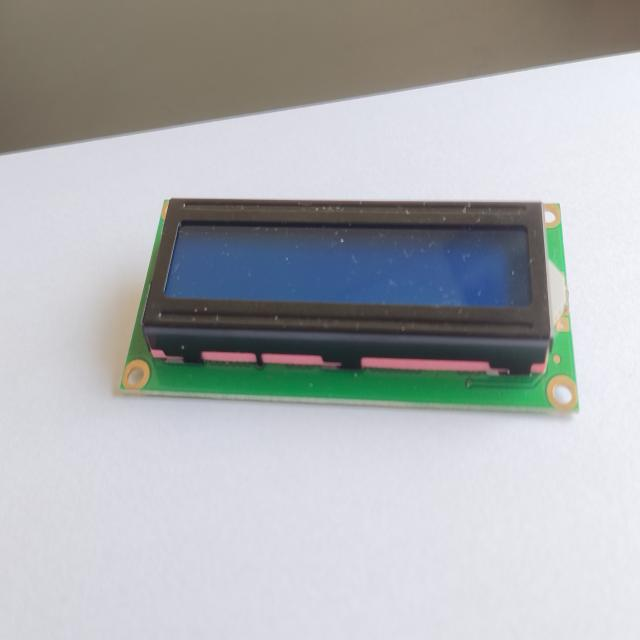lcd: (118, 194, 579, 414)
